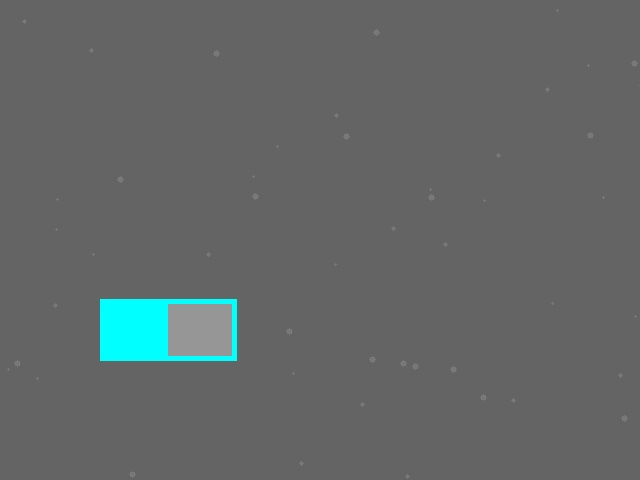truck: (100, 299, 236, 360)
